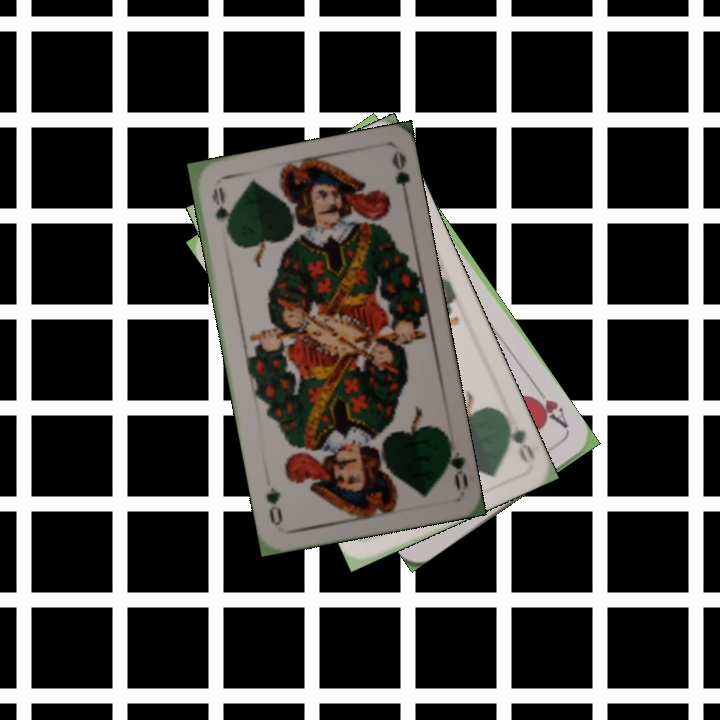GO: (495, 406, 537, 465), (441, 434, 471, 493), (208, 182, 234, 241)
HA: (526, 383, 572, 435)
